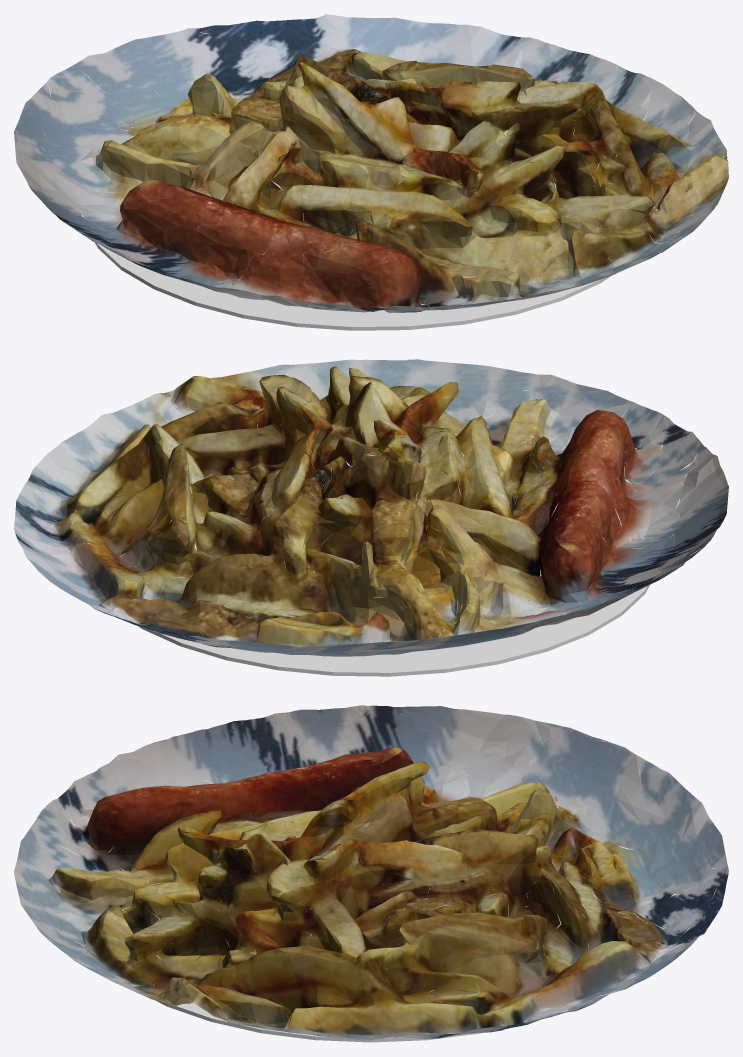
Rendered from salchipapa.glb.
3 renders of one model, top to bottom at view 1: azimuth 30°, elevation 25°; view 2: azimuth 150°, elevation 25°; view 3: azimuth 270°, elevation 25°, orthographic.
Visible parts, largest first — view 1: Mesh_0, Cylinder; view 2: Mesh_0, Cylinder; view 3: Mesh_0, Cylinder.
Boxes of the visible parts, left/top/right/bottom form: Mesh_0: left=14, top=14, right=728, bottom=312; Cylinder: left=84, top=120, right=651, bottom=330; Mesh_0: left=14, top=359, right=728, bottom=656; Cylinder: left=84, top=431, right=657, bottom=676; Mesh_0: left=14, top=705, right=728, bottom=1039; Cylinder: left=97, top=813, right=658, bottom=1042.
Size of the model in its own units: 1.16 by 0.2481 by 1.16.
Materials: 1 (1 with a texture image).
